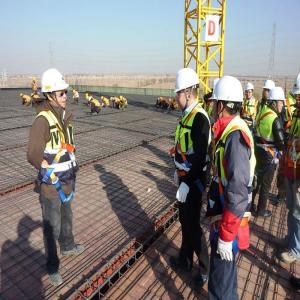white: (215, 76, 245, 121), (42, 69, 68, 109), (177, 68, 200, 111), (269, 87, 285, 112), (293, 74, 300, 108), (263, 81, 275, 98), (245, 83, 255, 100), (89, 98, 93, 103)
yellow: (33, 78, 37, 84), (32, 93, 36, 98), (121, 96, 124, 101), (102, 97, 105, 102), (74, 90, 77, 95), (21, 94, 24, 99), (87, 93, 90, 98), (111, 98, 114, 102), (169, 99, 172, 103)
